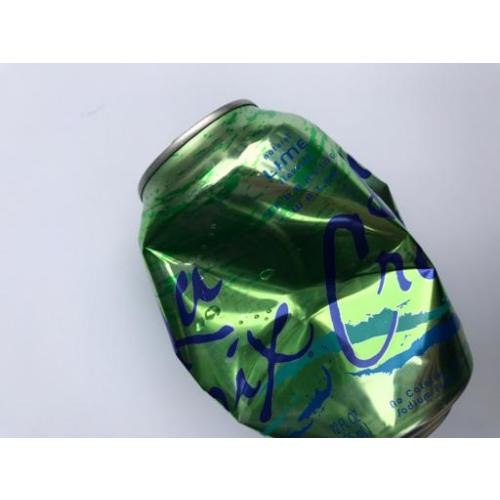metal: (142, 98, 470, 438)
